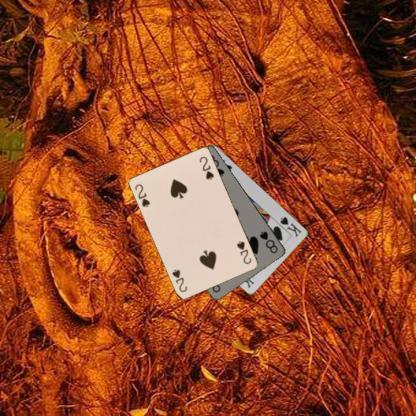2s: (132, 182, 152, 209), (234, 238, 253, 266)
8s: (257, 229, 280, 255)
Ks: (278, 214, 304, 238)
